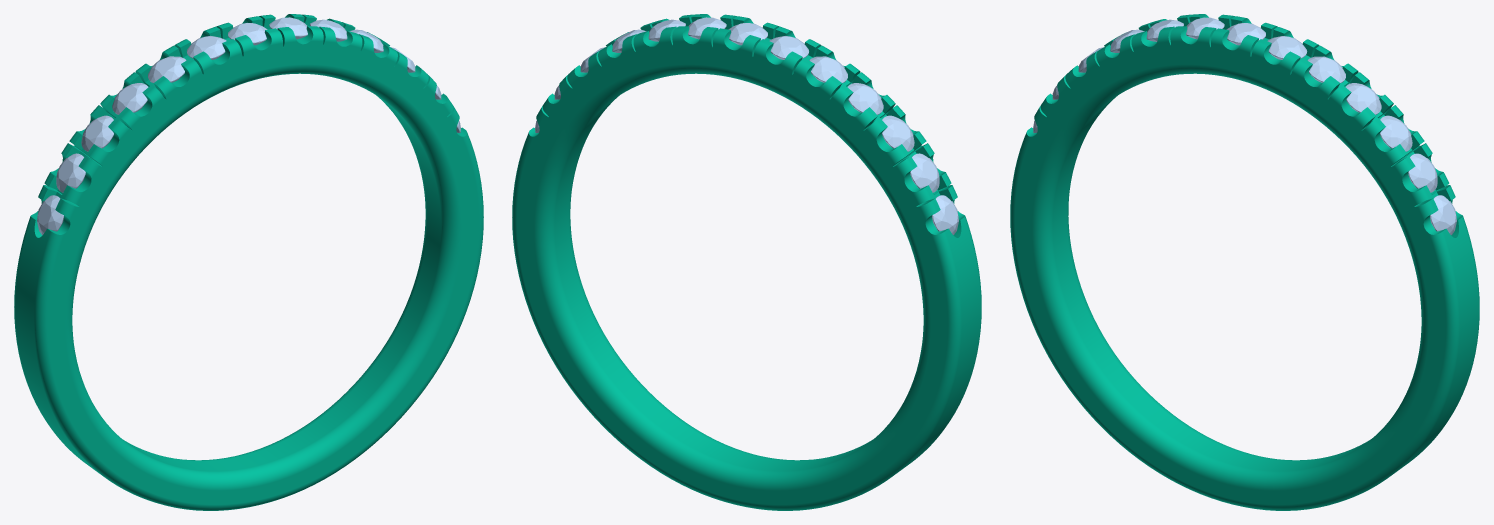
The picture shows the model from 3 angles, left to right: view 1: azimuth 30°, elevation 25°; view 2: azimuth 150°, elevation 25°; view 3: azimuth 330°, elevation 25°; orthographic projection.
Visible parts, largest first — view 1: 6474 - 2.10 MM(front).3dm, Diamond_Round (×7); view 2: 6474 - 2.10 MM(front).3dm, Diamond_Round (×7); view 3: 6474 - 2.10 MM(front).3dm, Diamond_Round (×7).
Boxes of the visible parts, bbox=[...] form: 6474 - 2.10 MM(front).3dm: bbox=[14, 14, 483, 510]; Diamond_Round (×7): bbox=[37, 23, 267, 234]; 6474 - 2.10 MM(front).3dm: bbox=[512, 14, 981, 510]; Diamond_Round (×7): bbox=[728, 23, 958, 234]; 6474 - 2.10 MM(front).3dm: bbox=[1010, 14, 1479, 510]; Diamond_Round (×7): bbox=[1226, 23, 1456, 235].
Bounding box in the file's own units: 2.82 × 2.82 × 0.3117.
